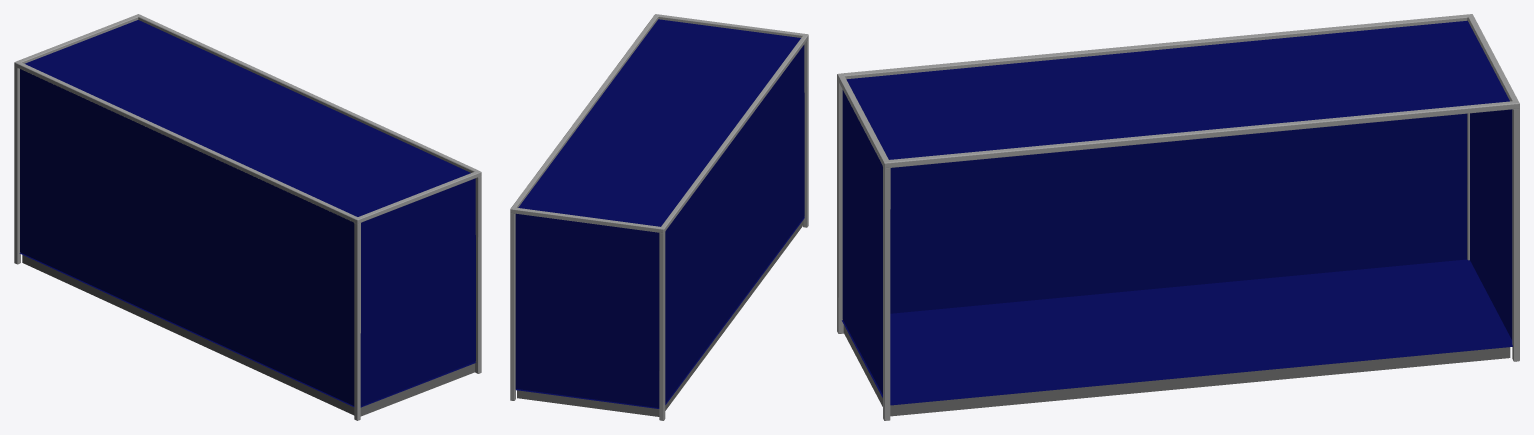
Rendered from M_Plumbing_Furniture01.fbx.
3 renders of one model, left to right at view 1: azimuth 30°, elevation 25°; view 2: azimuth 150°, elevation 25°; view 3: azimuth 270°, elevation 25°, orthographic. The views are drawn at different scales.
Visible parts, largest first — view 1: M_PlumbingFurniture_01; view 2: M_PlumbingFurniture_01; view 3: M_PlumbingFurniture_01.
Part boxes in pixels (bbox=[...]): M_PlumbingFurniture_01: bbox=[14, 14, 481, 420]; M_PlumbingFurniture_01: bbox=[510, 14, 808, 420]; M_PlumbingFurniture_01: bbox=[837, 14, 1519, 420].
Bounding box in the file's own units: 136 × 110 × 263.
